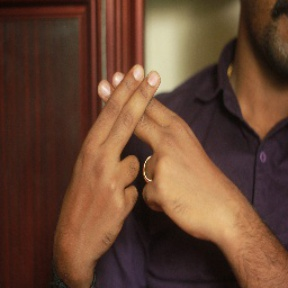F: (68, 59, 205, 186)
